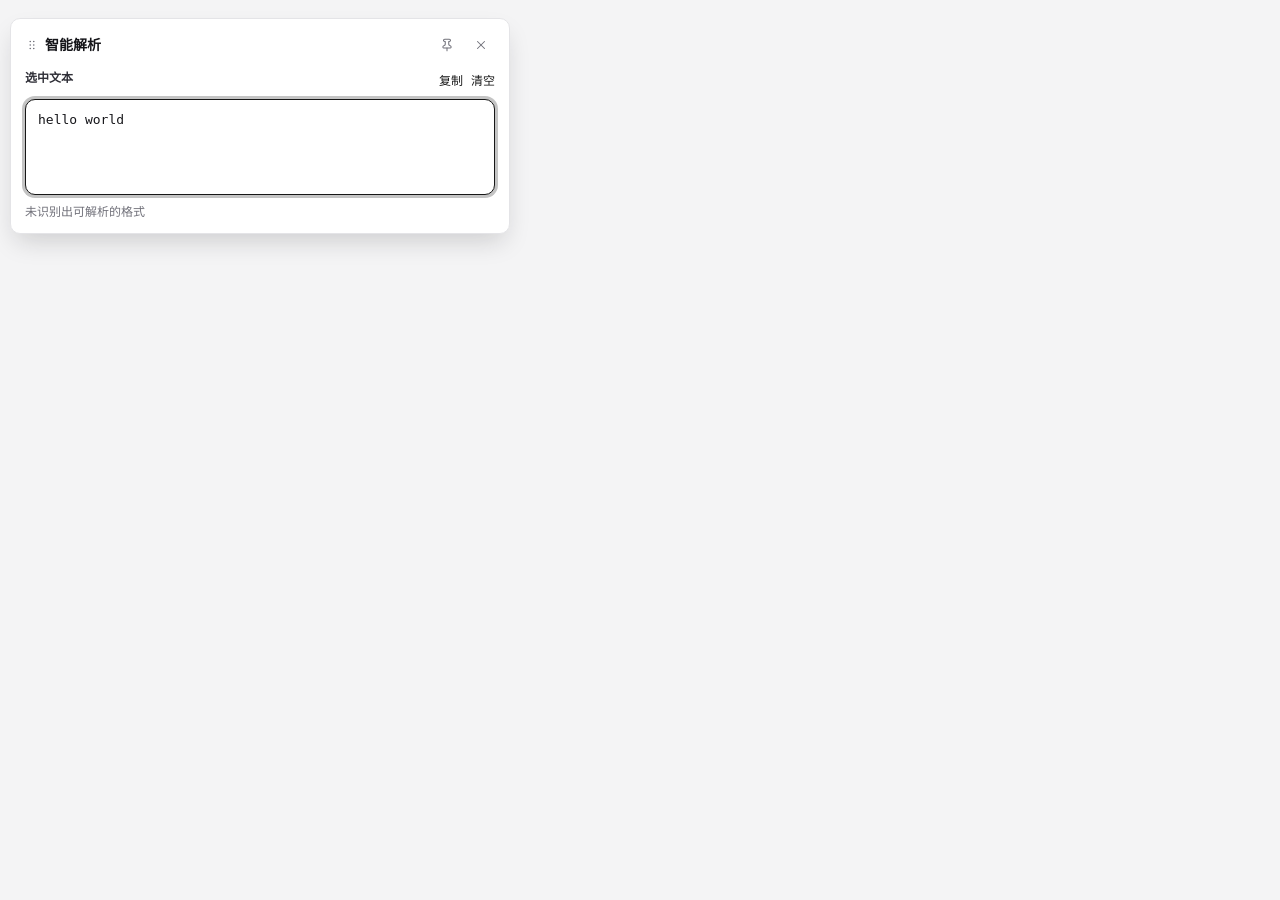
Scenario: SelectionDetectPanel 复制与清空 › 点击清空按钮清空输入、隐藏结果并禁用自身
Click the button "清空" at (483, 81), box [471,72,495,90]
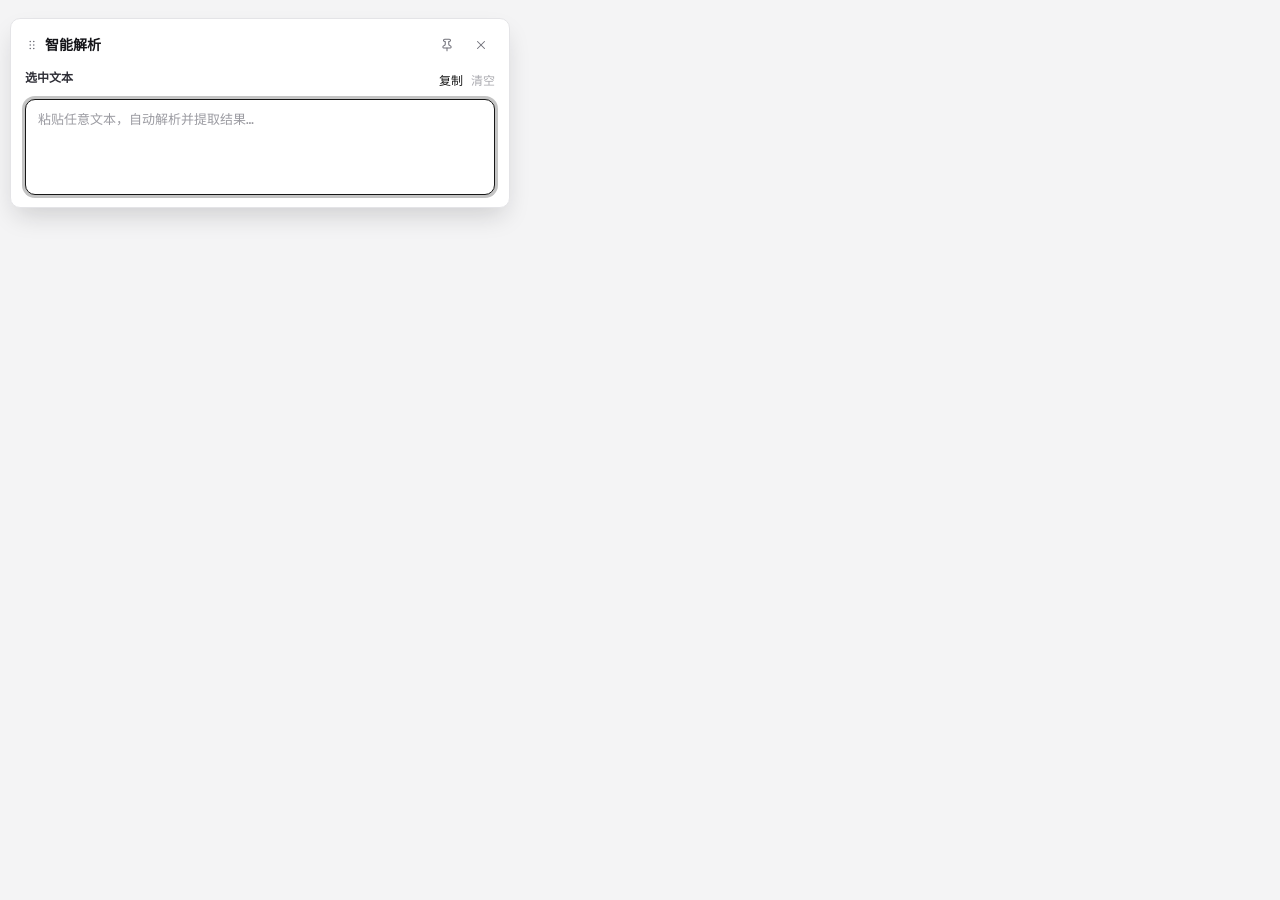
expect the text box with placeholder "粘贴任意文本，自动解析并提取结果…" is empty: met, box [26,100,494,194]
expect the message with class "tw-status" is gone: met
expect the button "清空" is disabled: met, box [471,72,495,90]
